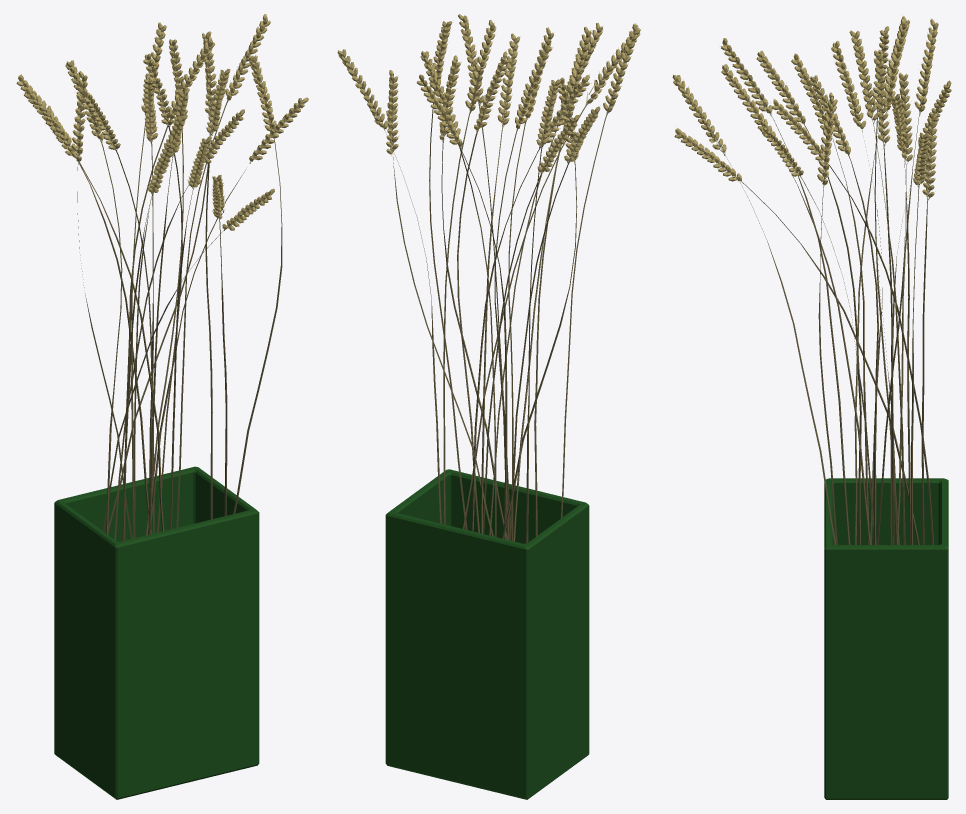
File: vase5.obj
3 renders of one model, left to right at view 1: azimuth 30°, elevation 25°; view 2: azimuth 150°, elevation 25°; view 3: azimuth 270°, elevation 25°, orthographic.
Parts seen in each view (by area): view 1: jarronCristal_Cube.1276, espigas_leaves.001; view 2: jarronCristal_Cube.1276, espigas_leaves.001; view 3: jarronCristal_Cube.1276, espigas_leaves.001.
Part boxes in pixels (x1,y1,x2,y2): jarronCristal_Cube.1276: (54,466,259,799); espigas_leaves.001: (16,14,308,540); jarronCristal_Cube.1276: (385,469,589,799); espigas_leaves.001: (337,14,641,543); jarronCristal_Cube.1276: (824,478,948,799); espigas_leaves.001: (672,16,951,544).
Size of the model in its own units: 0.3268 by 0.8743 by 0.3122.
